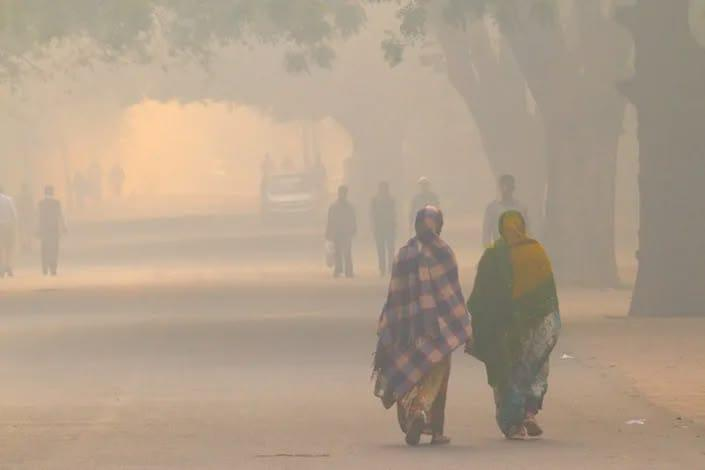Kendaraan: (254, 150, 323, 237)
Manusia: (360, 180, 475, 453), (473, 204, 561, 445), (23, 171, 79, 284), (319, 169, 363, 286), (367, 169, 403, 280), (486, 169, 533, 239), (0, 172, 25, 281), (408, 167, 443, 239)
Vegetasi: (374, 0, 705, 326), (0, 0, 368, 122)
